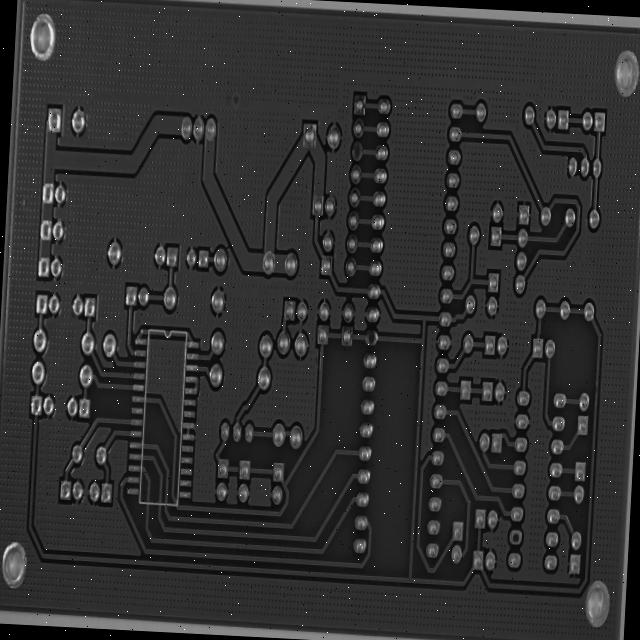missing_hole: (372, 365, 390, 393), (359, 154, 375, 183), (521, 592, 538, 618)
